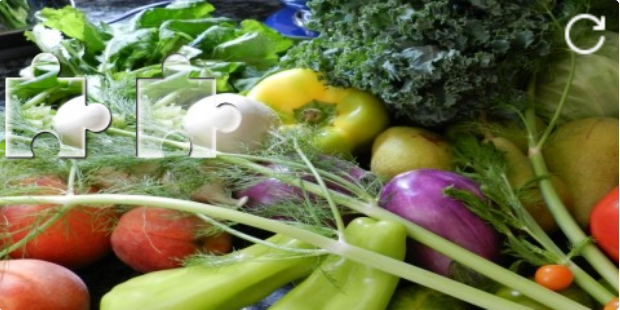target: (137, 53, 242, 159)
